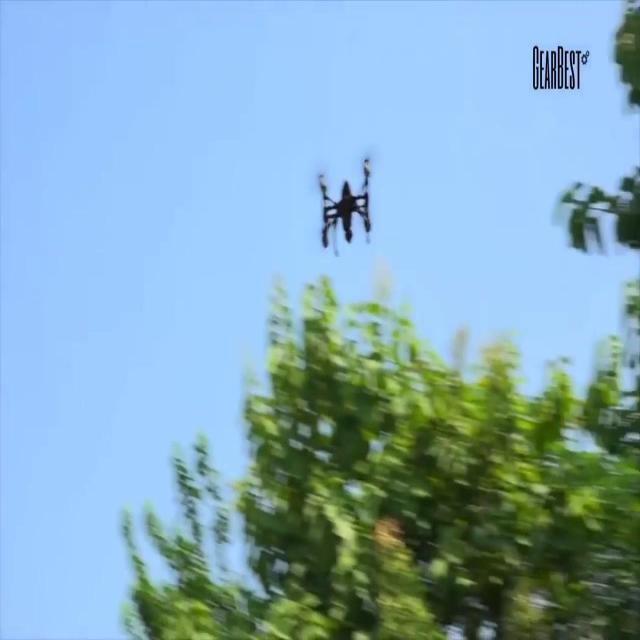drone: (317, 154, 377, 258)
